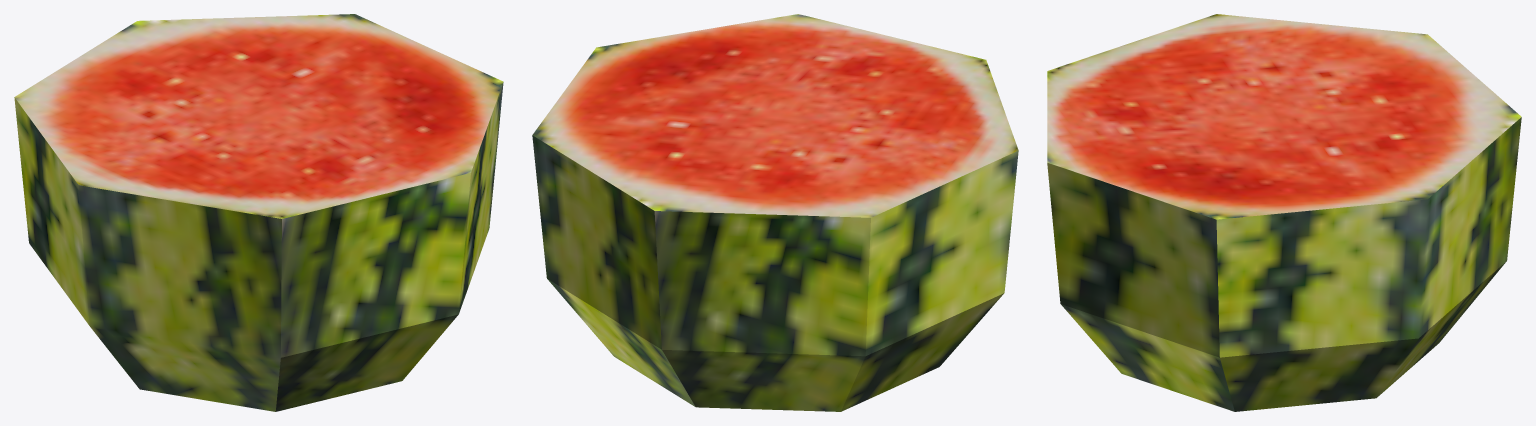
The model's file is Watermelon01b.obj.
The picture shows the model from 3 angles, left to right: view 1: azimuth 30°, elevation 25°; view 2: azimuth 150°, elevation 25°; view 3: azimuth 270°, elevation 25°; orthographic projection.
Parts seen in each view (by area): view 1: Watermelon01b; view 2: Watermelon01b; view 3: Watermelon01b.
Boxes of the visible parts, x1,y1,x2,y2 form: Watermelon01b: (14,14,503,411); Watermelon01b: (532,14,1018,411); Watermelon01b: (1047,14,1521,411).
Bounding box in the file's own units: 0.2167 × 0.1333 × 0.2112.
